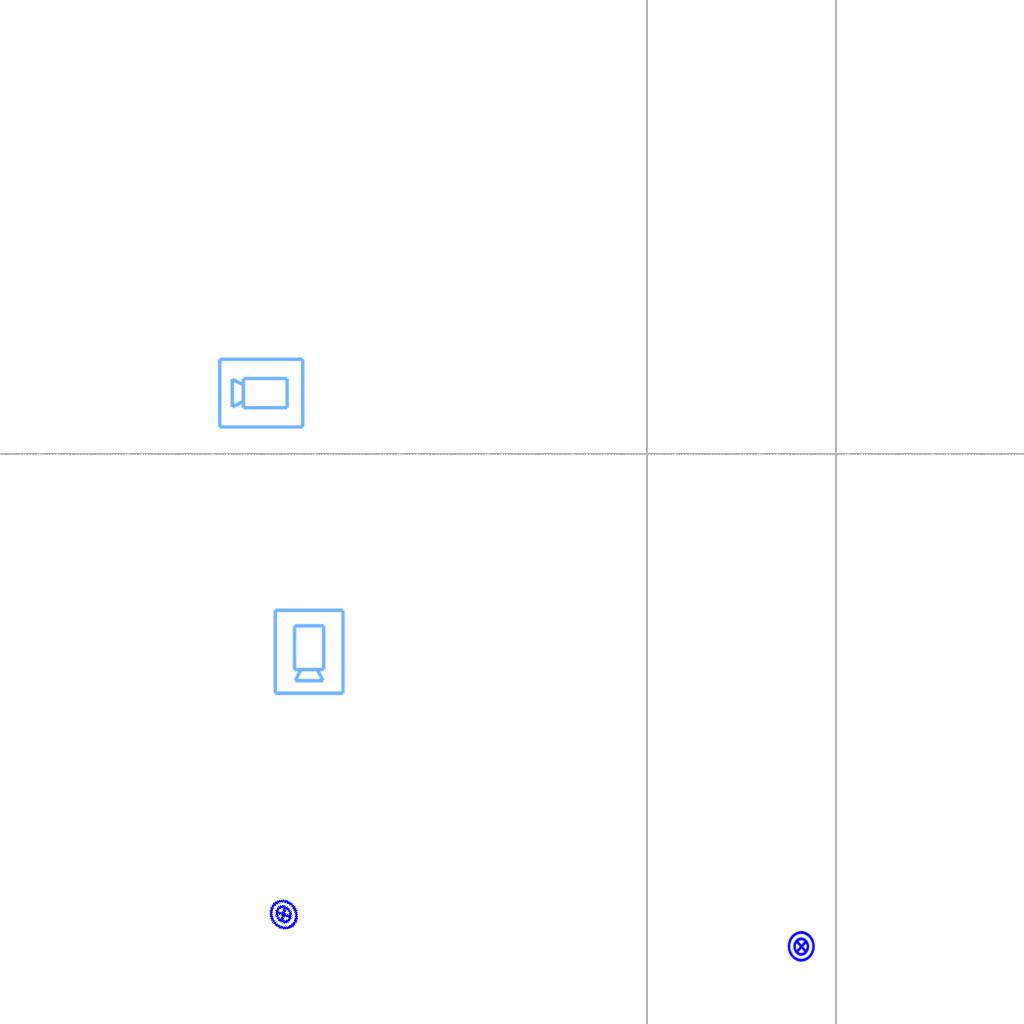KFO_Kamera_mit_Festobjektiv: (216, 354, 307, 431), (270, 606, 347, 697)
Taster_beleuchtet: (261, 892, 306, 937), (785, 930, 818, 963)
